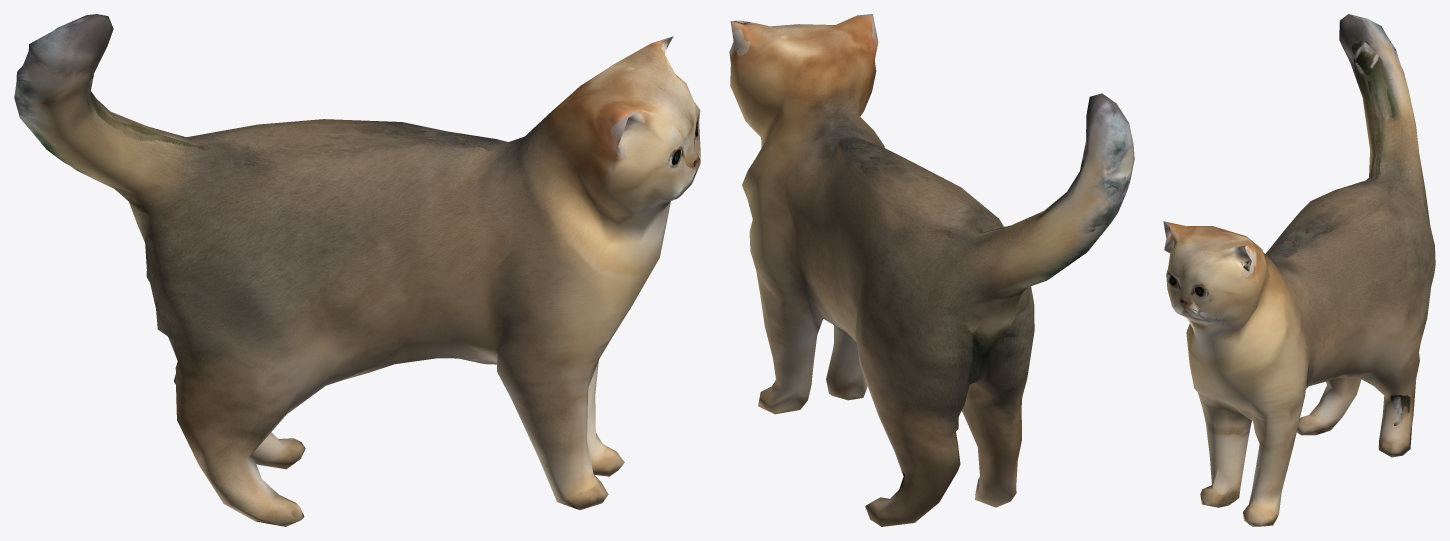
Rendered from cat_persian_single_1500.glb.
3 views of the same model, side by side, from view 1: azimuth 30°, elevation 25°; view 2: azimuth 150°, elevation 25°; view 3: azimuth 270°, elevation 25° (orthographic). The views are drawn at different scales.
Size of the model in its own units: 0.867 by 0.7759 by 0.5246.
1 material, 1 textured.
